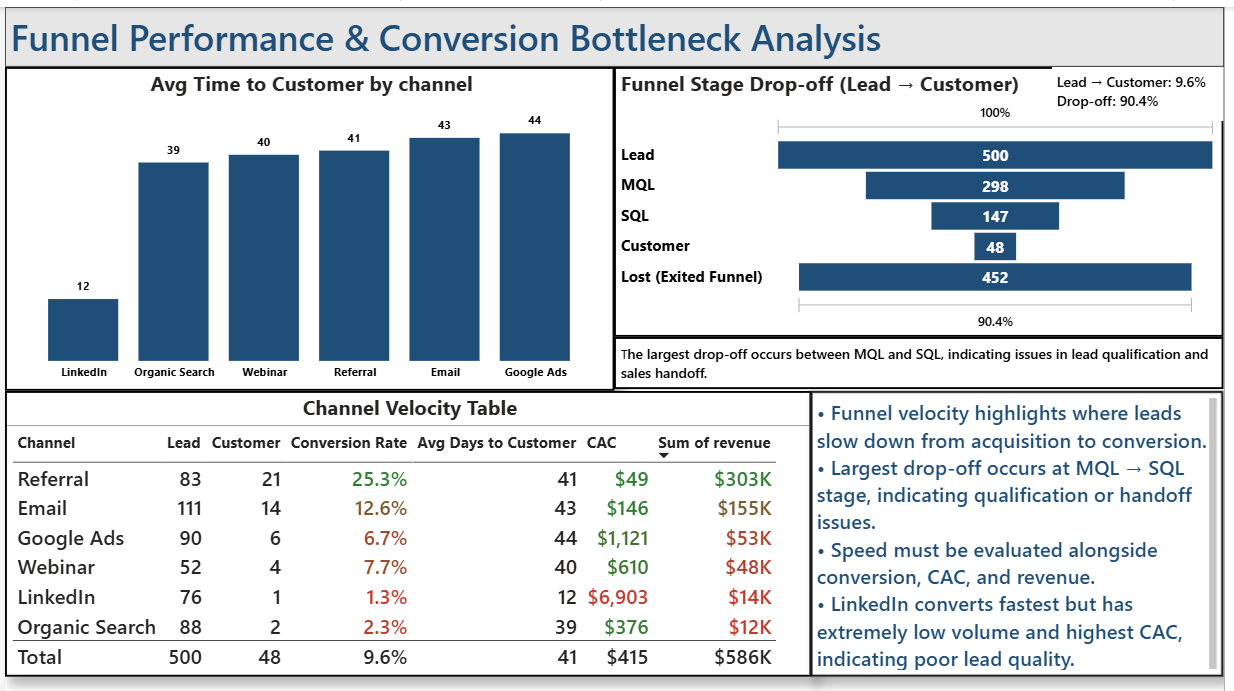

The page's visual inventory and layout, read from the dashboard file:
{"tool":"powerbi","page":{"name":"Page 2","canvas":[1280,720],"ordinal":1},"visuals":[{"type":"clusteredColumnChart","title":"Avg Time to Customer by channel","fields":{"Category":["leads.channel"],"Y":["lead_stage_events.Avg Days to Customer"]},"box":[0,62.8,640,340.3],"z":0},{"type":"funnel","title":"Funnel Stage Drop-off (Lead → Customer)","fields":{"Y":["lead_stage_events.Stage Lead Count"],"Category":["StageDim.Stage Label"]},"box":[640,62.8,640,283.5],"z":1000},{"type":"tableEx","title":"Channel Velocity Table","fields":{"Values":["leads.channel","lead_stage_events.Lead","lead_stage_events.Customer","lead_stage_events.Conversion Rate","lead_stage_events.Avg Days to Customer","lead_stage_events.CAC","Sum(lead_stage_events.revenue)"]},"box":[0,403,846.6,299.7],"z":2000},{"type":"textbox","box":[846.6,403,433.4,299.7],"z":3000},{"type":"textbox","box":[0,0,1280,62.8],"z":4000},{"type":"textbox","box":[1099.7,62.8,180.3,56.7],"z":5000},{"type":"textbox","box":[640,346.3,640,54.7],"z":6000}]}

Visuals, with their boxes in screenshot pixels (x1, y1, x2, y2), scaled from the page's 1280x720 canvas onto the 1234x691 screenshot:
"Avg Time to Customer by channel" clusteredColumnChart: (x1=0, y1=60, x2=617, y2=387)
"Funnel Stage Drop-off (Lead → Customer)" funnel: (x1=617, y1=60, x2=1233, y2=332)
"Channel Velocity Table" tableEx: (x1=0, y1=387, x2=816, y2=674)
textbox: (x1=816, y1=387, x2=1233, y2=674)
textbox: (x1=0, y1=0, x2=1233, y2=60)
textbox: (x1=1060, y1=60, x2=1233, y2=115)
textbox: (x1=617, y1=332, x2=1233, y2=385)
